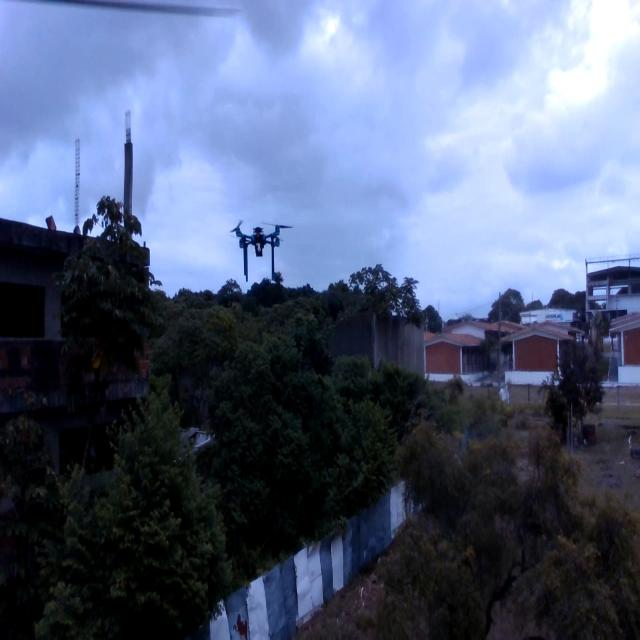-uav-: (223, 215, 299, 290)
